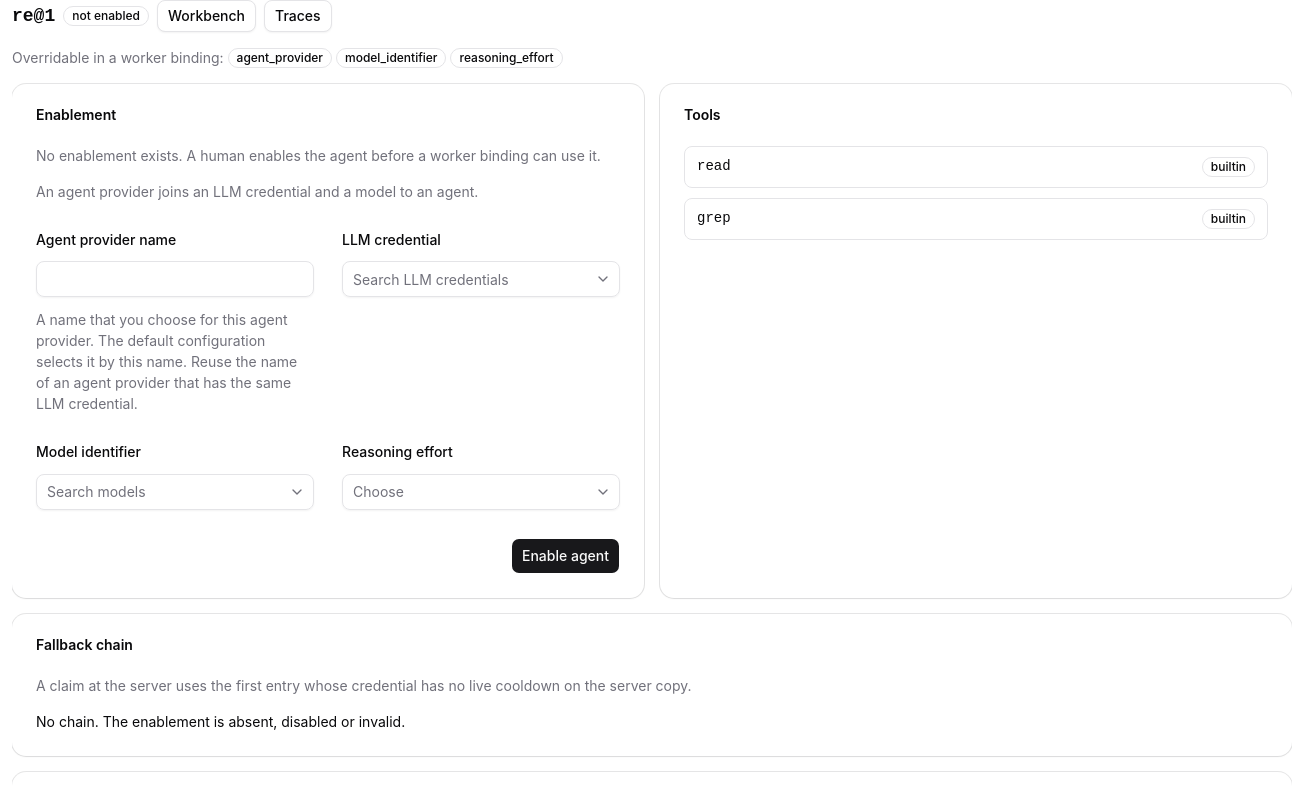
AgentScreen › prefills the name of an agent provider of another agent with the same credential
The width and height of the screenshot is (1292, 794).
Click the dropdown labelled "LLM credential" at (467, 279), box [343,261,591,297]
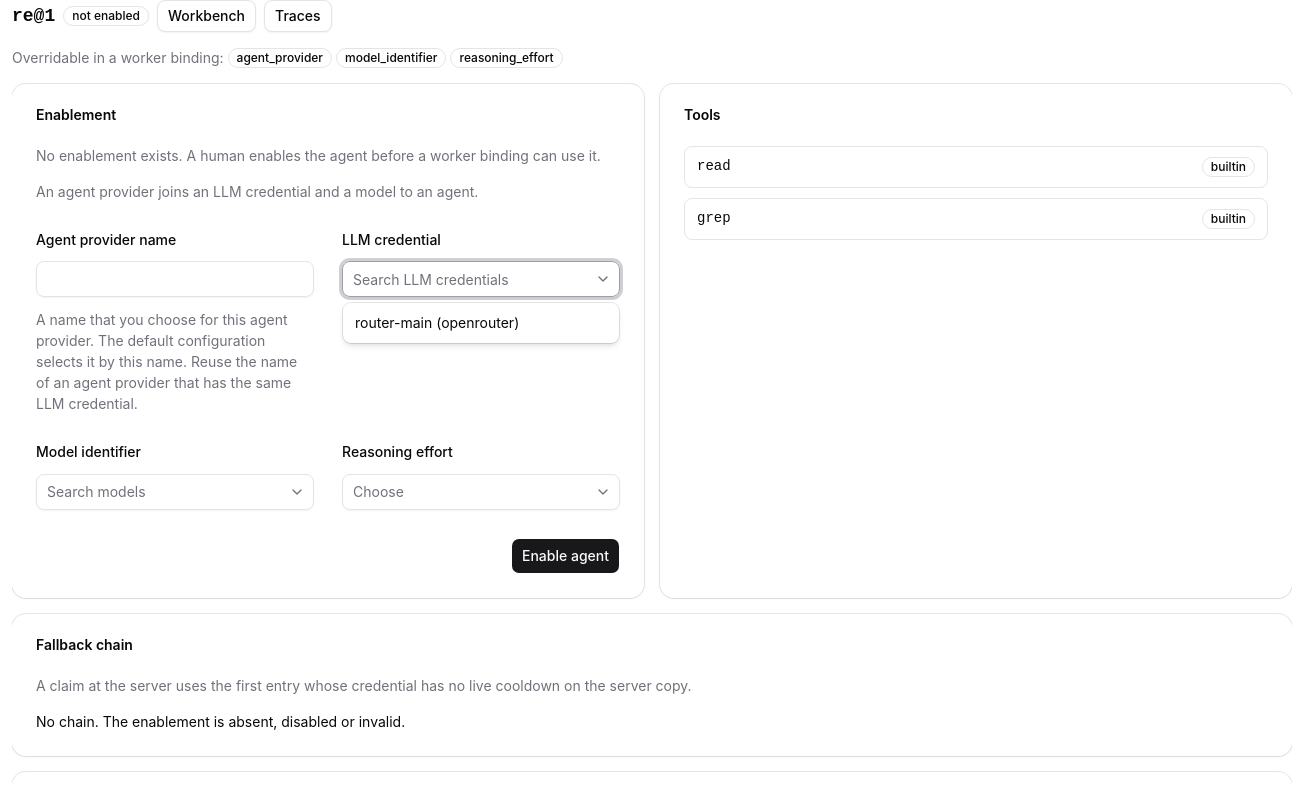
Click the option "router-main (openrouter)" at (437, 322), box [355,314,519,331]
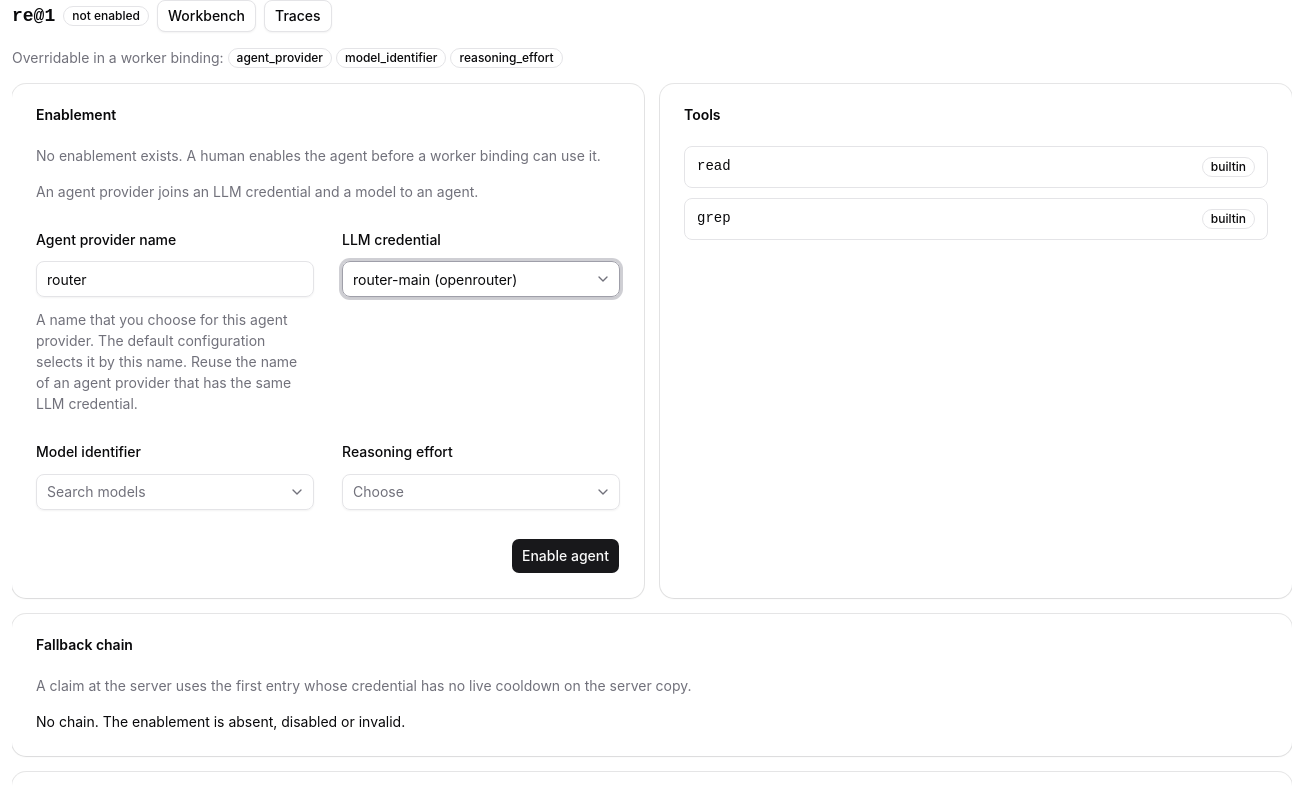
Check: the field labelled "Agent provider name" holds "router", box [36,261,314,297]
